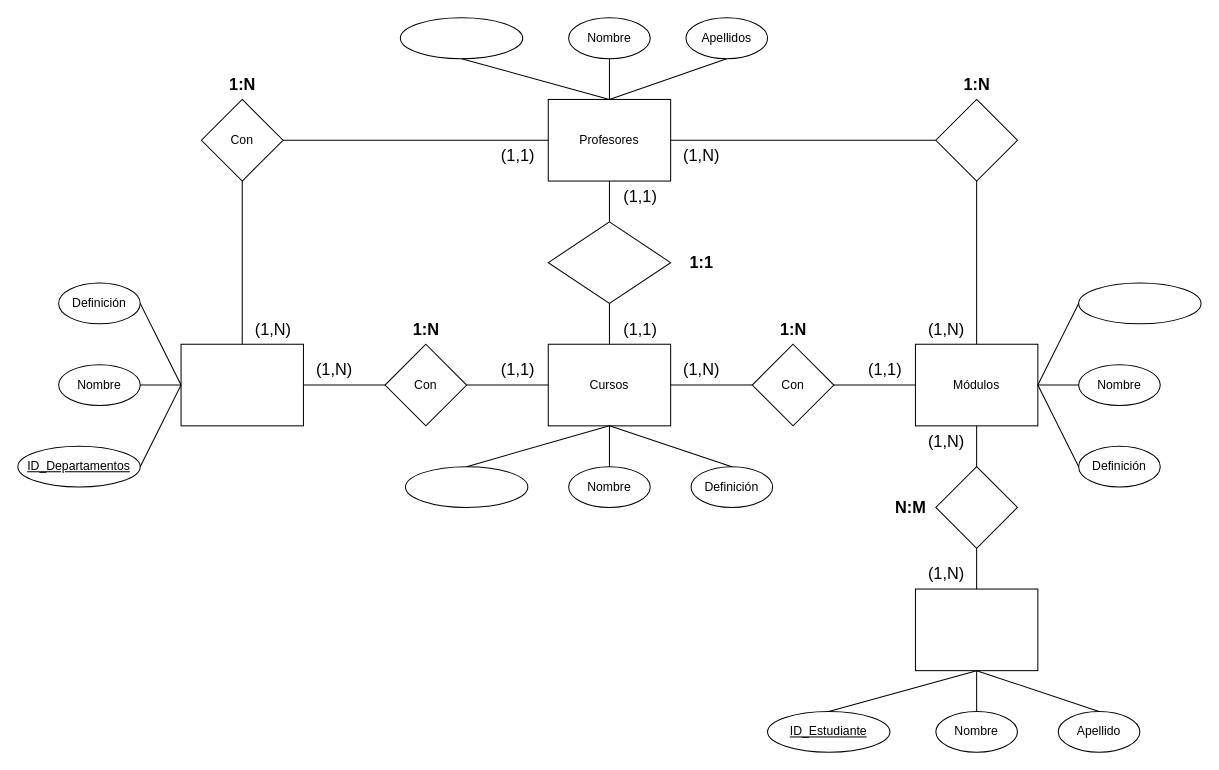
Some shapes in this 1219 by 770 pixel diagram are drawn without their labels. Here are the shapes that lost their labels. From the top down, the centre of each, then its label:
At (461,38): "ID_Profesores".
At (976,139): "Imparten".
At (609,262): "Tutor de".
At (1139,303): "ID_Módulos".
At (241,384): "Departamentos".
At (466,486): "ID_Cursos".
At (976,507): "Cursan".
At (976,629): "Estudiantes".
